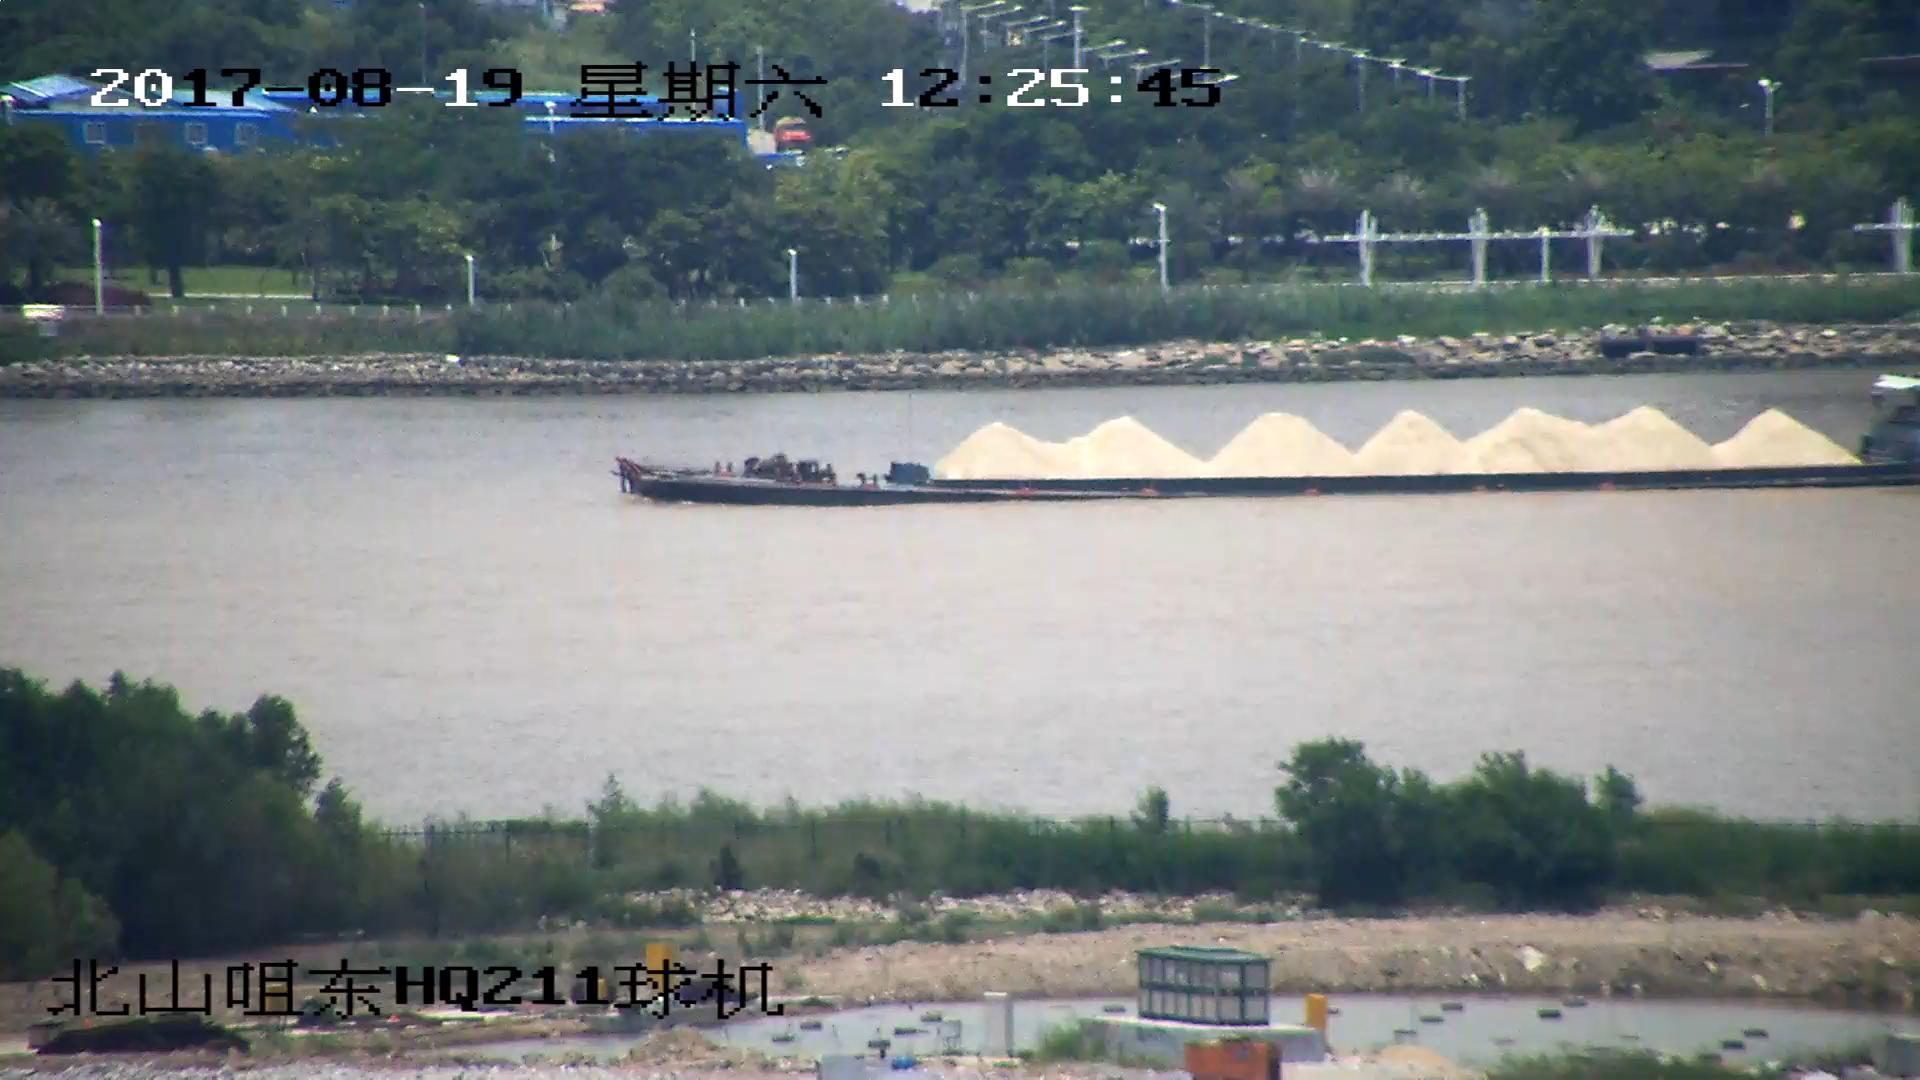ore carrier: (611, 377, 1920, 507)
